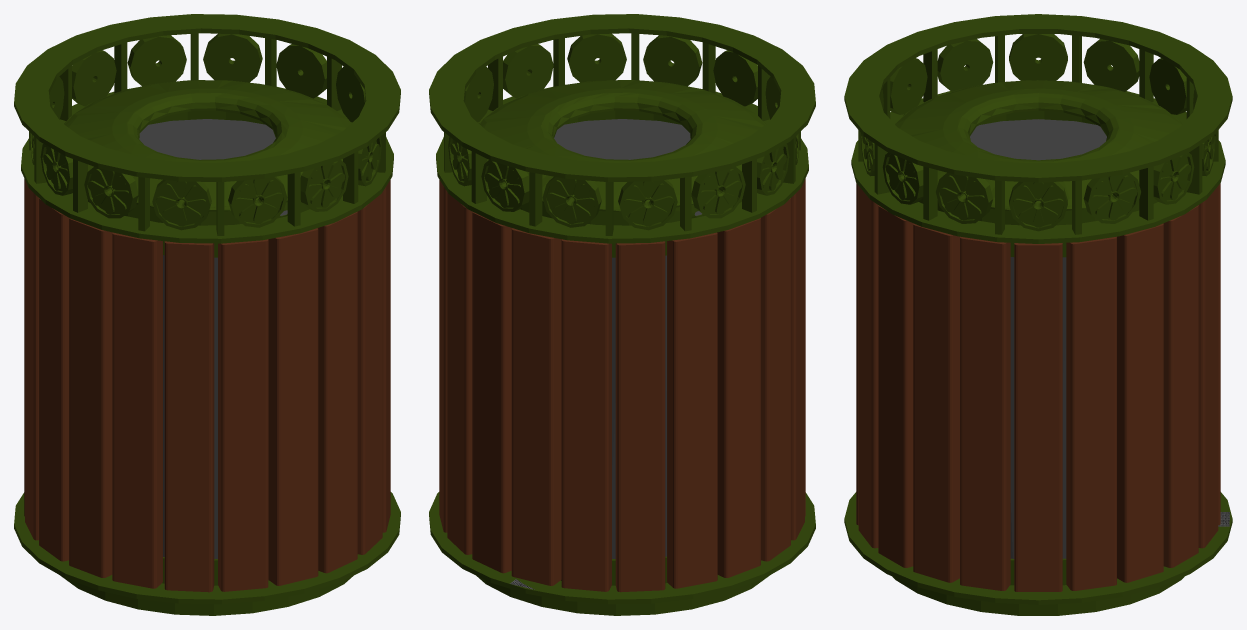
The picture shows the model from 3 angles, left to right: view 1: azimuth 30°, elevation 25°; view 2: azimuth 150°, elevation 25°; view 3: azimuth 270°, elevation 25°; orthographic projection.
Visible parts, largest first — view 1: mesh57.002_mesh57-geometry, mesh1.025_mesh1-geometry, mesh1.024_mesh1-geometry, mesh1.023_mesh1-geometry, mesh1.026_mesh1-geometry, mesh1.022_mesh1-geometry, mesh20.002_mesh20-geometry, mesh1.027_mesh1-geometry, mesh1.021_mesh1-geometry, mesh1.028_mesh1-geometry, mesh52.002_mesh52-geometry, mesh35.002_mesh35-geometry (+23 smaller); view 2: mesh57.002_mesh57-geometry, mesh1.037_mesh1-geometry, mesh1.038_mesh1-geometry, mesh1.039_mesh1-geometry, mesh1.036_mesh1-geometry, mesh1.040_mesh1-geometry, mesh20.002_mesh20-geometry, mesh1.035_mesh1-geometry, mesh1.021_mesh1-geometry, mesh1.034_mesh1-geometry, mesh52.002_mesh52-geometry, mesh35.002_mesh35-geometry (+23 smaller); view 3: mesh57.002_mesh57-geometry, mesh1.032_mesh1-geometry, mesh1.030_mesh1-geometry, mesh1.031_mesh1-geometry, mesh1.033_mesh1-geometry, mesh1.029_mesh1-geometry, mesh20.002_mesh20-geometry, mesh1.034_mesh1-geometry, mesh1.028_mesh1-geometry, mesh68.002_mesh68-geometry, mesh1.035_mesh1-geometry, mesh1.027_mesh1-geometry (+24 smaller).
Boxes of the visible parts, bbox=[...] form: mesh57.002_mesh57-geometry: bbox=[14, 14, 400, 181]; mesh1.025_mesh1-geometry: bbox=[218, 239, 268, 591]; mesh1.024_mesh1-geometry: bbox=[164, 241, 214, 592]; mesh1.023_mesh1-geometry: bbox=[112, 232, 162, 588]; mesh1.026_mesh1-geometry: bbox=[268, 228, 318, 585]; mesh1.022_mesh1-geometry: bbox=[69, 218, 112, 577]; mesh20.002_mesh20-geometry: bbox=[64, 80, 350, 225]; mesh1.027_mesh1-geometry: bbox=[318, 211, 357, 573]; mesh1.021_mesh1-geometry: bbox=[39, 198, 68, 561]; mesh1.028_mesh1-geometry: bbox=[357, 192, 382, 554]; mesh52.002_mesh52-geometry: bbox=[21, 87, 393, 243]; mesh35.002_mesh35-geometry: bbox=[14, 492, 400, 604]; mesh57.002_mesh57-geometry: bbox=[429, 14, 815, 181]; mesh1.037_mesh1-geometry: bbox=[561, 239, 611, 591]; mesh1.038_mesh1-geometry: bbox=[615, 241, 665, 592]; mesh1.039_mesh1-geometry: bbox=[667, 232, 717, 588]; mesh1.036_mesh1-geometry: bbox=[511, 228, 561, 585]; mesh1.040_mesh1-geometry: bbox=[717, 218, 760, 577]; mesh20.002_mesh20-geometry: bbox=[479, 80, 765, 225]; mesh1.035_mesh1-geometry: bbox=[472, 211, 511, 573]; mesh1.021_mesh1-geometry: bbox=[761, 198, 790, 561]; mesh1.034_mesh1-geometry: bbox=[447, 192, 472, 554]; mesh52.002_mesh52-geometry: bbox=[436, 87, 808, 243]; mesh35.002_mesh35-geometry: bbox=[429, 492, 815, 604]; mesh57.002_mesh57-geometry: bbox=[844, 14, 1232, 182]; mesh1.032_mesh1-geometry: bbox=[1066, 236, 1116, 590]; mesh1.030_mesh1-geometry: bbox=[960, 236, 1010, 590]; mesh1.031_mesh1-geometry: bbox=[1014, 243, 1062, 591]; mesh1.033_mesh1-geometry: bbox=[1117, 223, 1163, 582]; mesh1.029_mesh1-geometry: bbox=[913, 223, 959, 582]; mesh20.002_mesh20-geometry: bbox=[895, 80, 1181, 225]; mesh1.034_mesh1-geometry: bbox=[1163, 205, 1198, 567]; mesh1.028_mesh1-geometry: bbox=[878, 205, 913, 567]; mesh68.002_mesh68-geometry: bbox=[970, 119, 1106, 558]; mesh1.035_mesh1-geometry: bbox=[1198, 186, 1218, 548]; mesh1.027_mesh1-geometry: bbox=[858, 186, 878, 548].
Size of the model in its own units: 0.5232 by 0.6727 by 0.5232.
